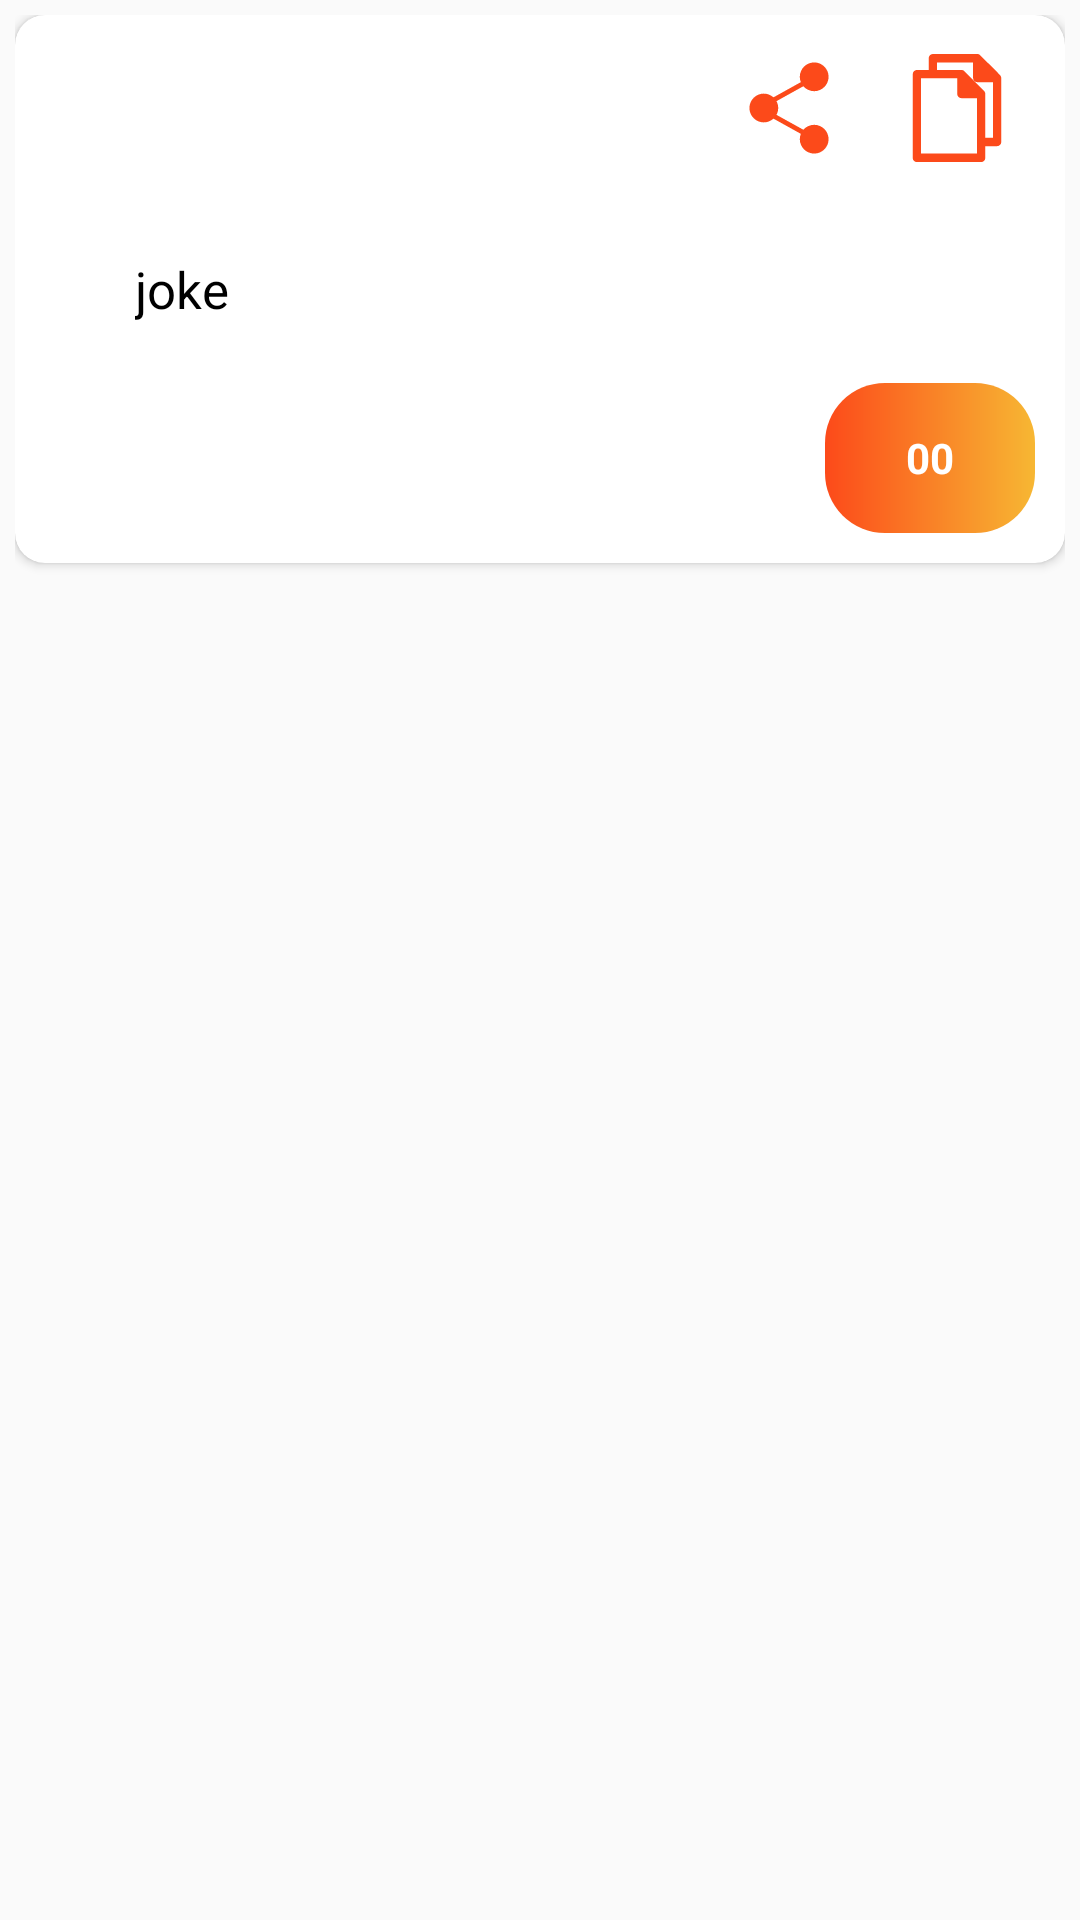

Point at icon controls on the screen. Image size 1080 x 1920, points as (x=x, y=y).
share: (x=789, y=108)
